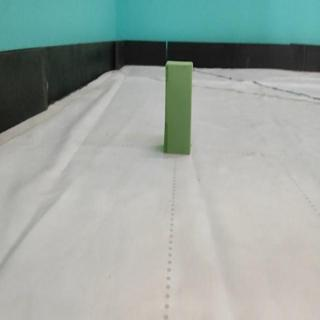greenbox: (163, 59, 194, 155)
